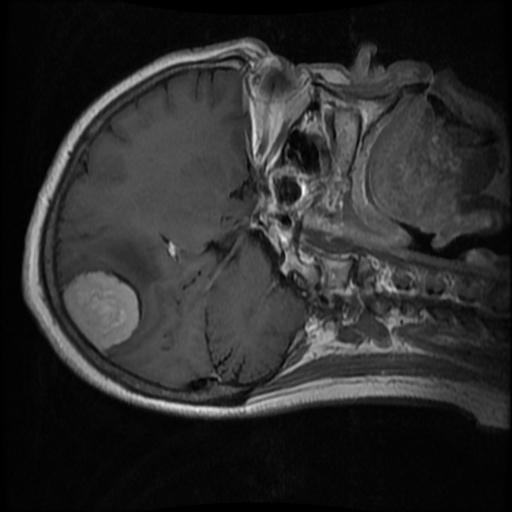meningioma: (64, 270, 139, 349)
